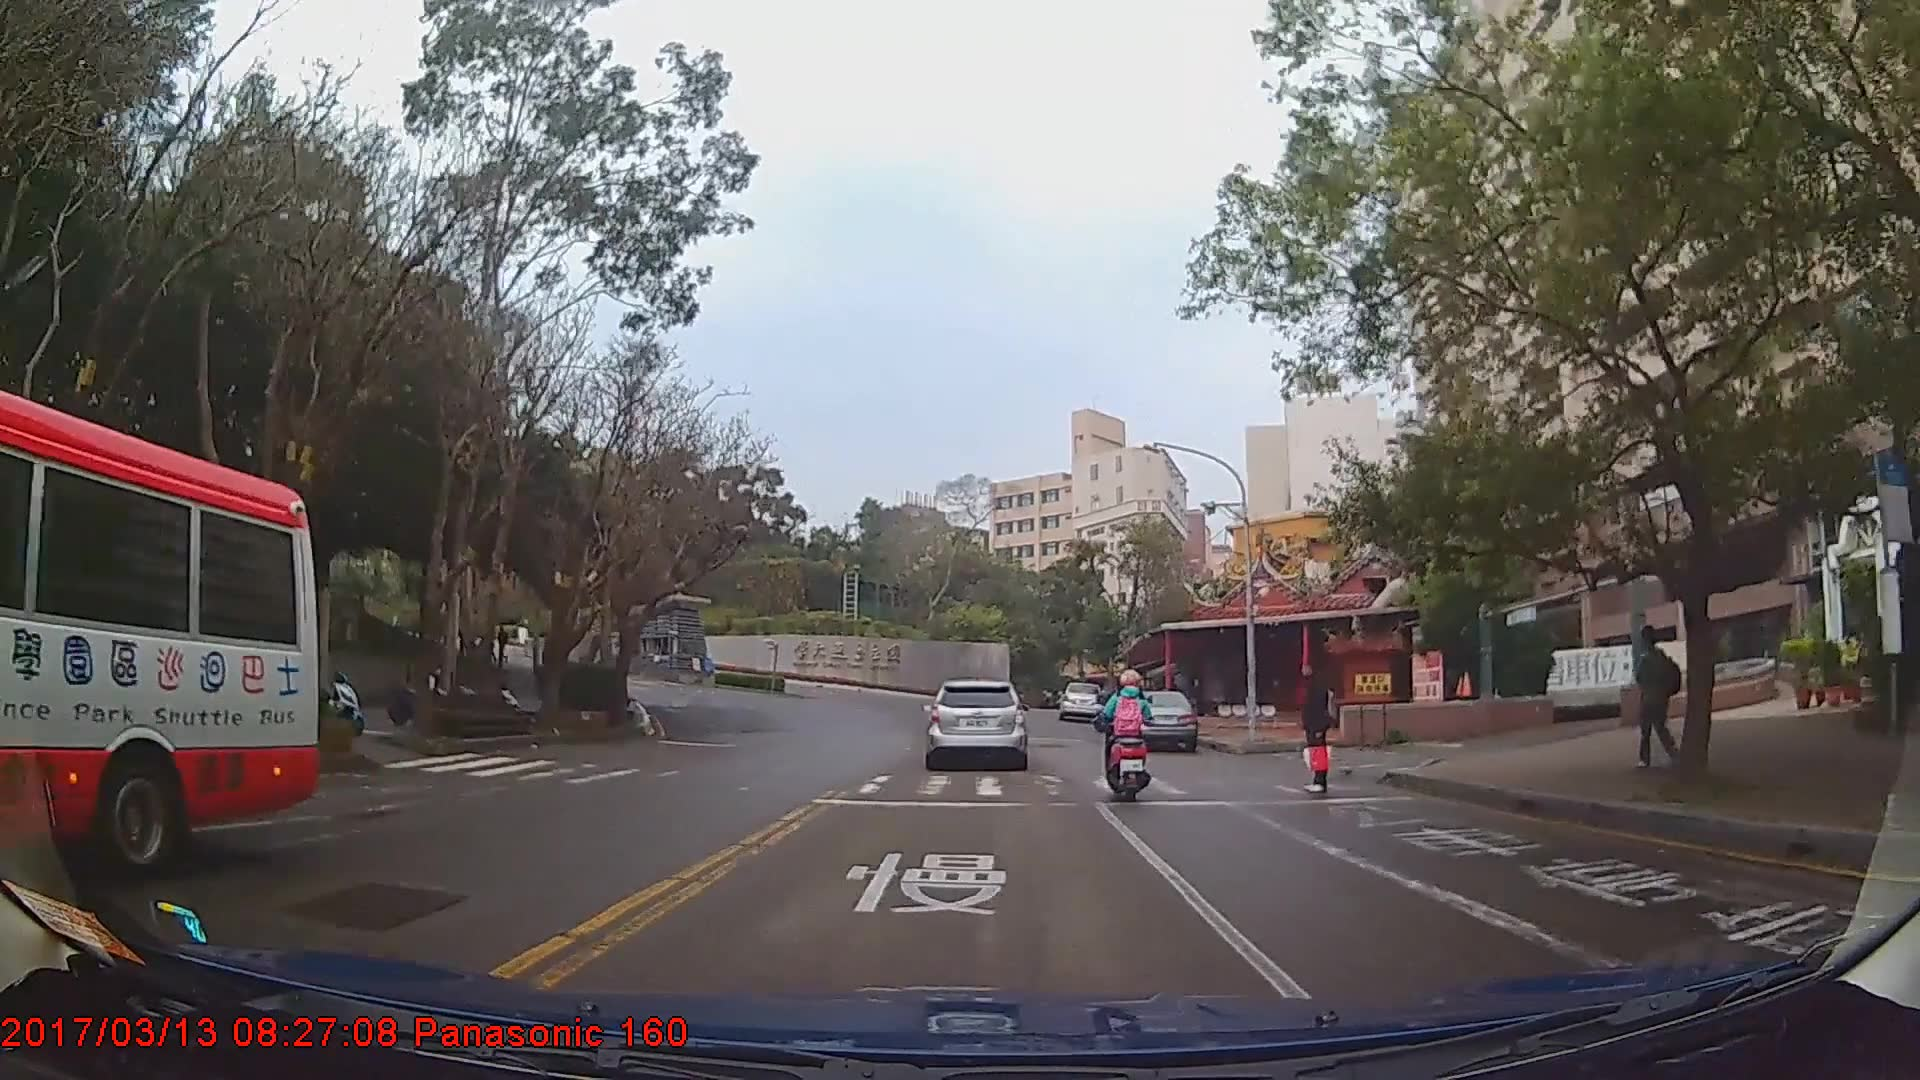pedestrian: (1635, 623, 1686, 768), (1295, 649, 1343, 796)
rider: (1097, 669, 1158, 803)
vehicle: (0, 382, 310, 885), (927, 675, 1028, 769), (1122, 689, 1198, 752), (1059, 680, 1103, 720)
